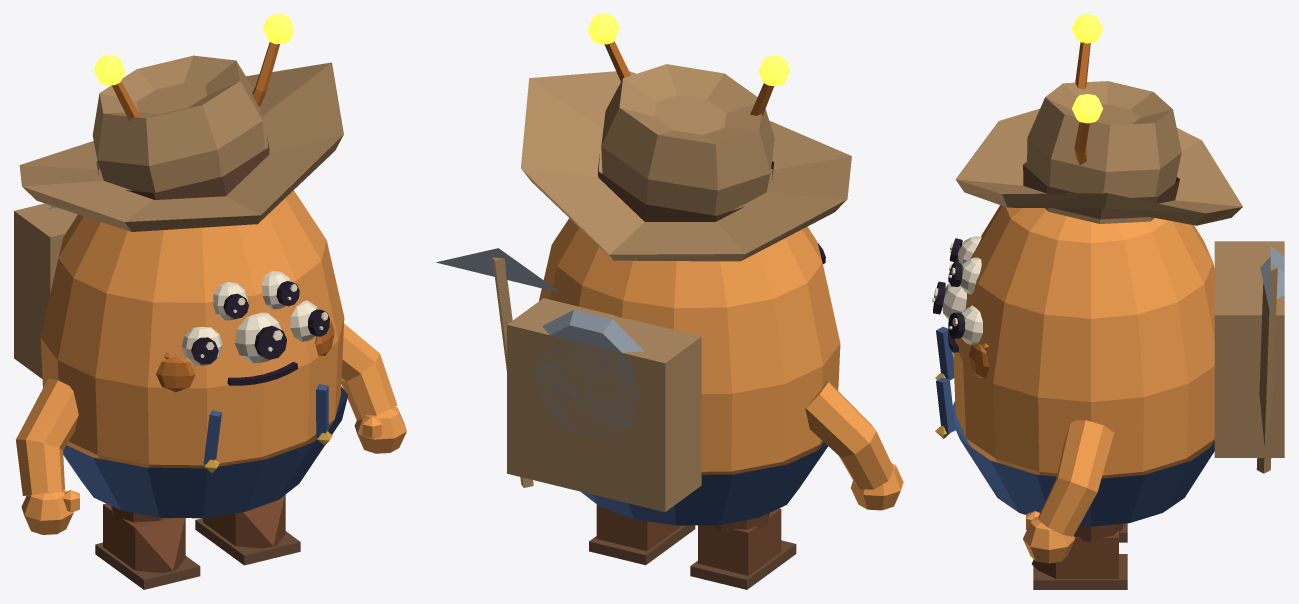
Rendered from Char_Native_Prospector.fbx.
3 renders of one model, left to right at view 1: azimuth 30°, elevation 25°; view 2: azimuth 150°, elevation 25°; view 3: azimuth 270°, elevation 25°, orthographic. The views are drawn at different scales.
Visible parts, largest first — view 1: Char_Native_Prospector_Body, Char_Native_Prospector_Head, Char_Native_Prospector_Arm_R, Char_Native_Prospector_Leg_R, Char_Native_Prospector_Arm_L, Char_Native_Prospector_Leg_L; view 2: Char_Native_Prospector_Body, Char_Native_Prospector_Arm_R, Char_Native_Prospector_Leg_R, Char_Native_Prospector_Leg_L, Char_Native_Prospector_Head; view 3: Char_Native_Prospector_Body, Char_Native_Prospector_Arm_L, Char_Native_Prospector_Head, Char_Native_Prospector_Leg_L.
Part boxes in pixels (x1,y1,x2,y2): Char_Native_Prospector_Body: [14, 55, 347, 518]; Char_Native_Prospector_Head: [94, 14, 334, 392]; Char_Native_Prospector_Arm_R: [16, 378, 79, 534]; Char_Native_Prospector_Leg_R: [95, 503, 200, 589]; Char_Native_Prospector_Arm_L: [341, 323, 406, 453]; Char_Native_Prospector_Leg_L: [195, 494, 300, 565]; Char_Native_Prospector_Body: [436, 64, 851, 525]; Char_Native_Prospector_Arm_R: [805, 380, 903, 510]; Char_Native_Prospector_Leg_R: [690, 508, 796, 589]; Char_Native_Prospector_Leg_L: [589, 504, 695, 565]; Char_Native_Prospector_Head: [588, 14, 828, 287]; Char_Native_Prospector_Body: [935, 81, 1284, 526]; Char_Native_Prospector_Arm_L: [1023, 420, 1113, 563]; Char_Native_Prospector_Head: [932, 14, 1103, 377]; Char_Native_Prospector_Leg_L: [1031, 523, 1127, 589].
Size of the model in its own units: 1.21 by 1.57 by 1.01.
